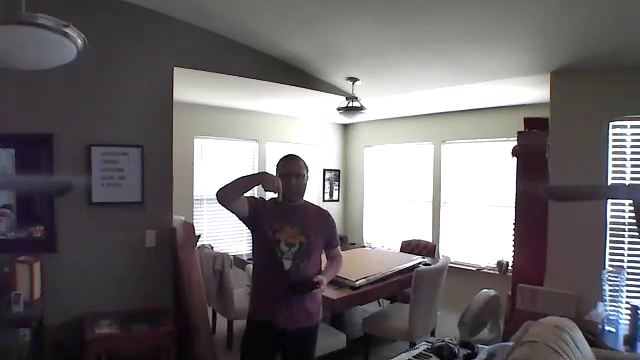down: (258, 169, 285, 204)
